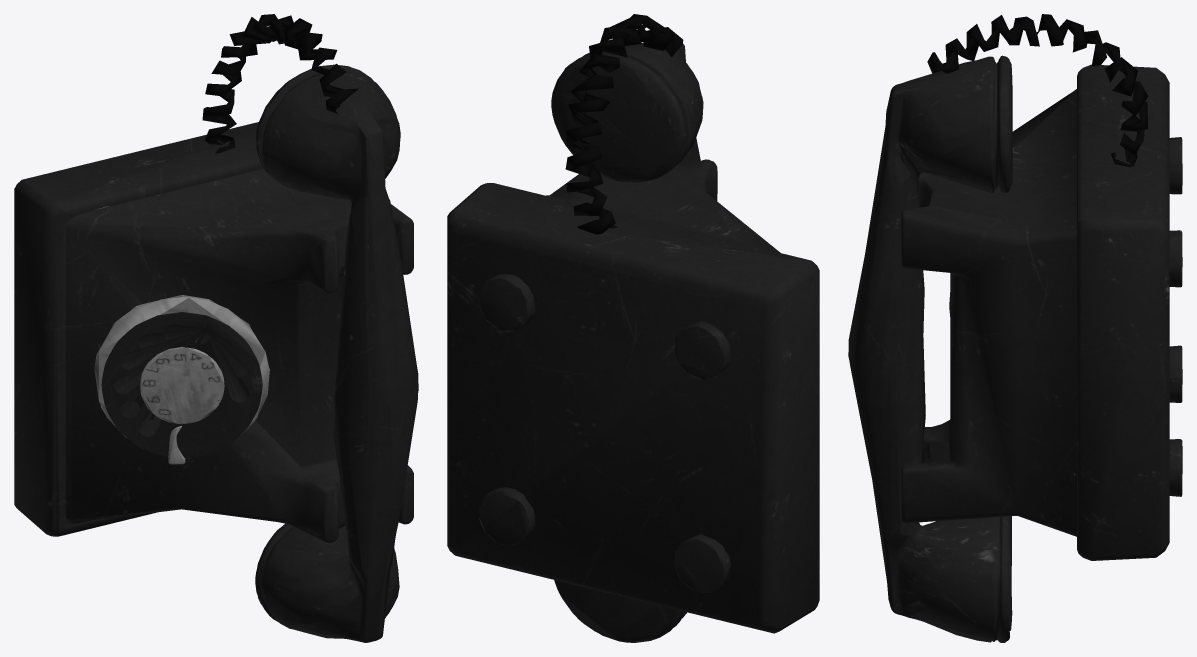
File: telephone.fbx
3 views of the same model, side by side, from view 1: azimuth 30°, elevation 25°; view 2: azimuth 150°, elevation 25°; view 3: azimuth 270°, elevation 25° (orthographic). The views are drawn at different scales.
Parts seen in each view (by area): view 1: pCylinder8, pSphere3, pHelix1; view 2: pCylinder8, pSphere3, pHelix1; view 3: pCylinder8, pSphere3, pHelix1.
Part boxes in pixels (left/top/right/bottom): pCylinder8: left=14, top=122, right=413, bottom=542; pSphere3: left=255, top=64, right=418, bottom=642; pHelix1: left=202, top=14, right=358, bottom=153; pCylinder8: left=447, top=159, right=819, bottom=633; pSphere3: left=551, top=43, right=703, bottom=642; pHelix1: left=565, top=14, right=683, bottom=234; pCylinder8: left=901, top=64, right=1182, bottom=560; pSphere3: left=848, top=55, right=1012, bottom=642; pHelix1: left=927, top=14, right=1147, bottom=167.
Bounding box in the file's own units: 1.13 × 2 × 0.9876.
